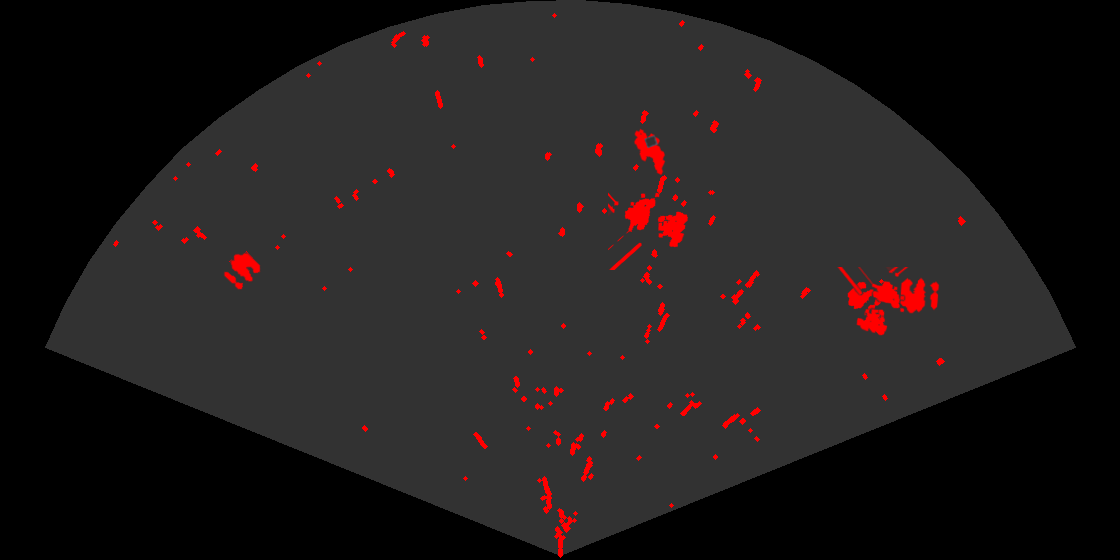AUV: (632, 127, 667, 177)
ball: (898, 276, 941, 315), (222, 251, 262, 291), (846, 280, 883, 317)
cage: (608, 191, 690, 270), (837, 267, 910, 337)
